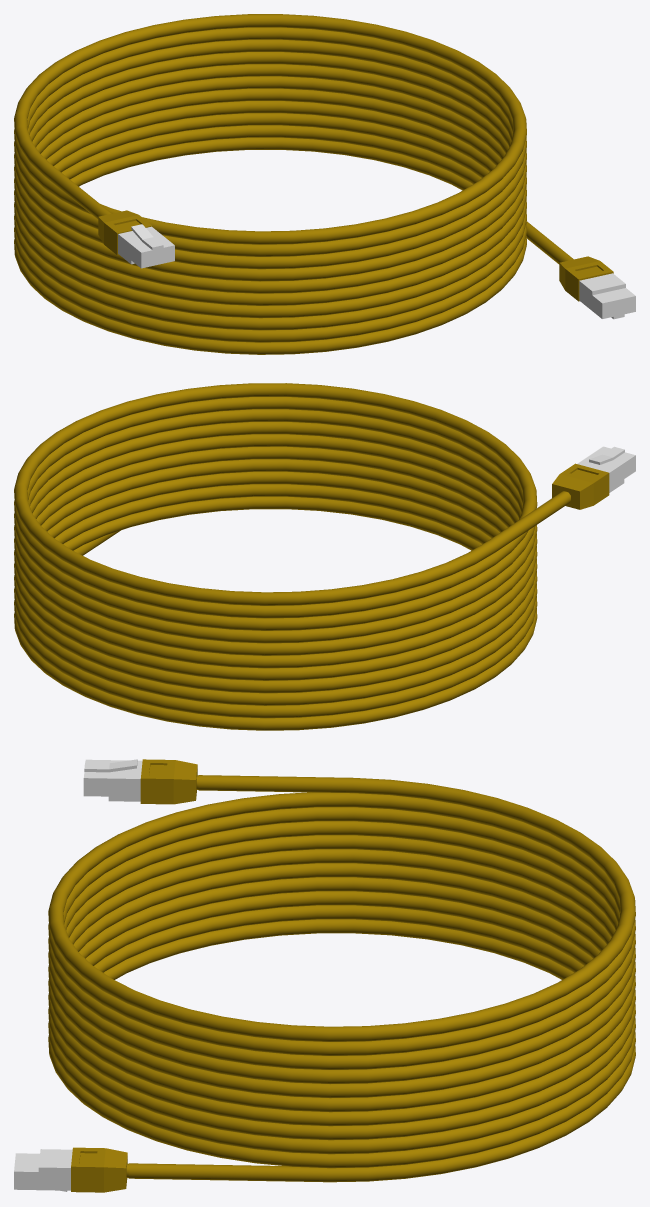
Rendered from rj45_showroom.fbx.
3 renders of one model, top to bottom at view 1: azimuth 30°, elevation 25°; view 2: azimuth 150°, elevation 25°; view 3: azimuth 270°, elevation 25°, orthographic. The views are drawn at different scales.
Visible parts, largest first — view 1: Circle, Cube.003, Cube.001; view 2: Circle, Cube.001; view 3: Circle, Cube.001, Cube.003.
Part boxes in pixels (bbox=[...]): Circle: bbox=[14, 14, 573, 354]; Cube.003: bbox=[559, 256, 635, 319]; Cube.001: bbox=[98, 210, 174, 268]; Circle: bbox=[14, 383, 570, 730]; Cube.001: bbox=[552, 446, 635, 509]; Circle: bbox=[48, 775, 635, 1182]; Cube.001: bbox=[83, 759, 198, 804]; Cube.003: bbox=[14, 1147, 128, 1192].
Bounding box in the file's own units: 13.89 × 4.61 × 13.99.
